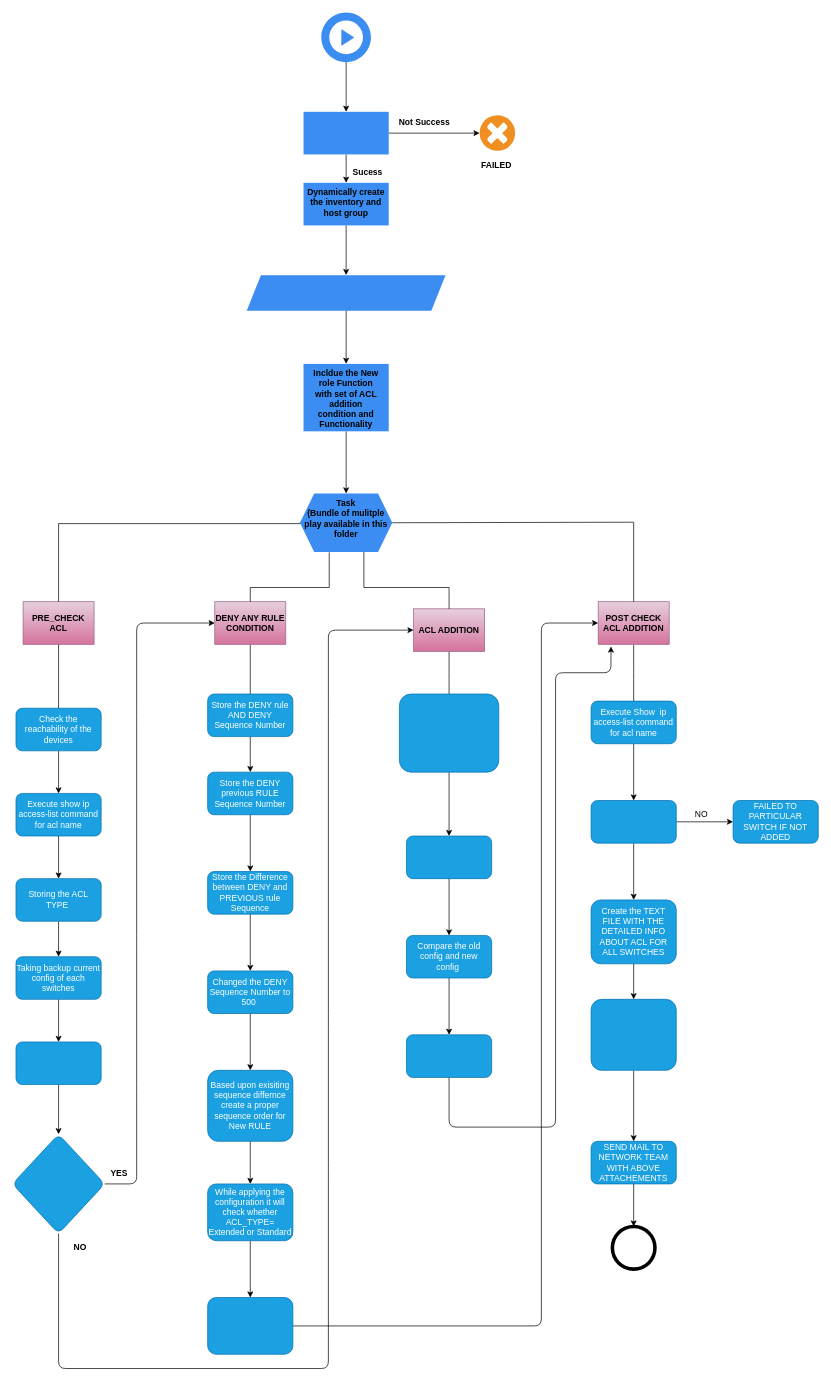
This 831x1387 diagram has some shape labels left out. The shapes that lost their labels are listed below. From the top down, each one's box as (x1, y1, x2, y2) in pixels, then its label:
(303, 111, 388, 154): Validate the Input Variable
(246, 275, 445, 310): Use the above inventory call the new play book for ACL addition
(399, 693, 499, 772): Based on ACL TYPE Condition Apply the NEW ACL RULE WITHOUT ANY SEQUENCE NUMBER
(590, 800, 676, 843): Check whether NEW RULE ADDED TO THE ACL OR NOT
(406, 835, 492, 879): Taking new backup after applied ACL rule
(590, 999, 676, 1070): Create the TEXT FILE WITH NOT REACHABLE SWITCHES AND ACL NOT APPLIED SWITCHES
(15, 1041, 101, 1085): Remove existing ACL rules from the new given list
(406, 1034, 492, 1077): Display the config for each switches
(12, 1134, 105, 1234): Capture if the deny any rule available in exsisiting ACL rule
(610, 1224, 656, 1271): STOP
(207, 1297, 293, 1354): Compare the new confiureation with old config backup
